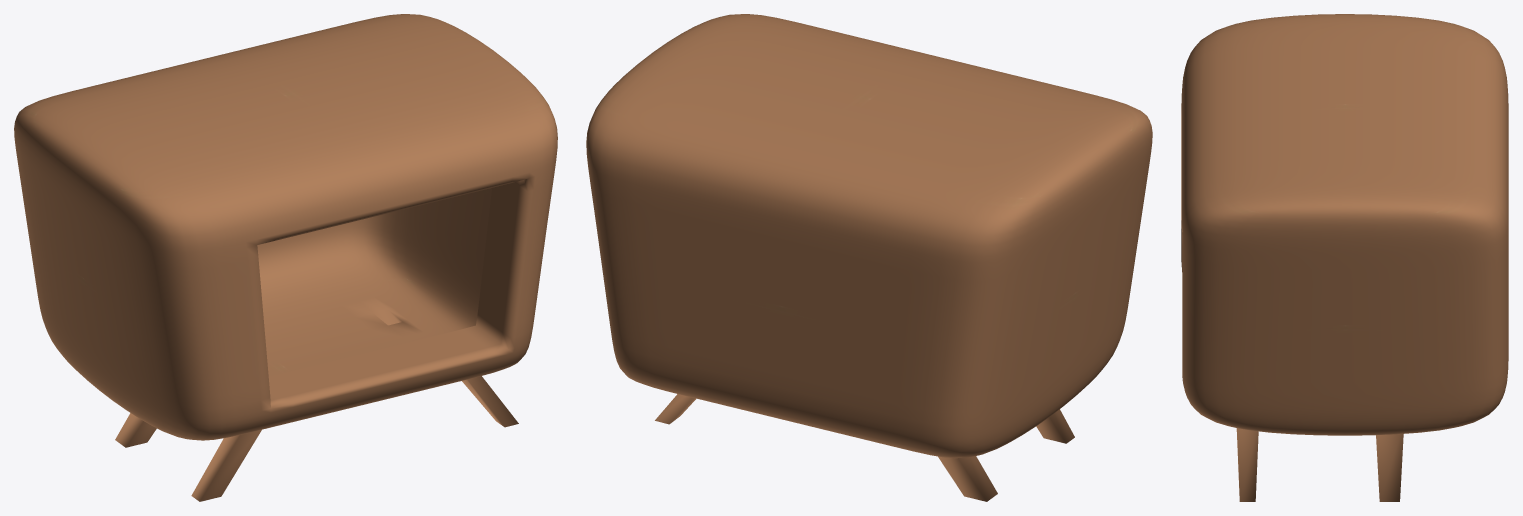
The model's file is tvCuerpo.obj.
The picture shows the model from 3 angles, left to right: view 1: azimuth 30°, elevation 25°; view 2: azimuth 150°, elevation 25°; view 3: azimuth 270°, elevation 25°; orthographic projection. The views are drawn at different scales.
Visible parts, largest first — view 1: TV; view 2: TV; view 3: TV.
Part boxes in pixels (<box>): TV: <box>14,14,557,501</box>; TV: <box>586,14,1152,501</box>; TV: <box>1181,14,1508,501</box>.
Bounding box in the file's own units: 234 × 172 × 163.
Materials: 1 (1 with a texture image).
